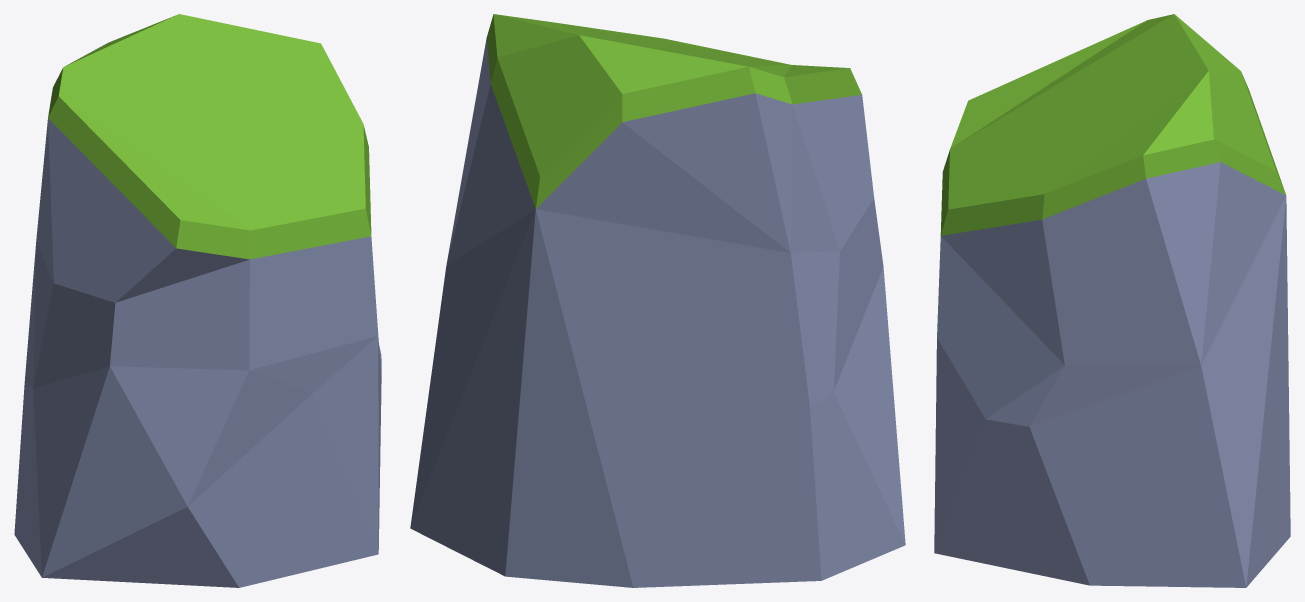
File: Rock_3_1.fbx
3 renders of one model, left to right at view 1: azimuth 30°, elevation 25°; view 2: azimuth 150°, elevation 25°; view 3: azimuth 270°, elevation 25°, orthographic. The views are drawn at different scales.
Parts seen in each view (by area): view 1: Rock_3_1; view 2: Rock_3_1; view 3: Rock_3_1.
Part boxes in pixels (box(x1,y1,x2,y2)): Rock_3_1: box(14, 14, 381, 587); Rock_3_1: box(410, 14, 905, 587); Rock_3_1: box(934, 14, 1290, 587).
Size of the model in its own units: 1.65 by 2.11 by 1.48.
